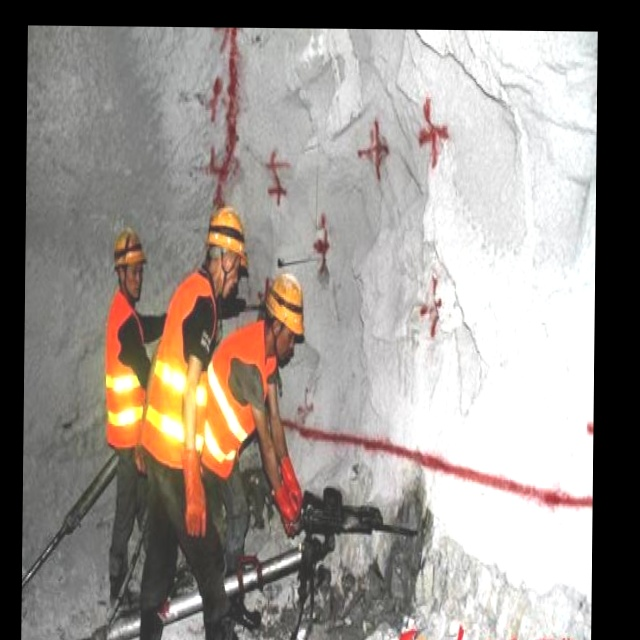Con_Casco: (210, 205, 251, 296)
Con_Chaleco: (145, 274, 216, 460), (204, 318, 271, 470), (103, 298, 151, 446)
